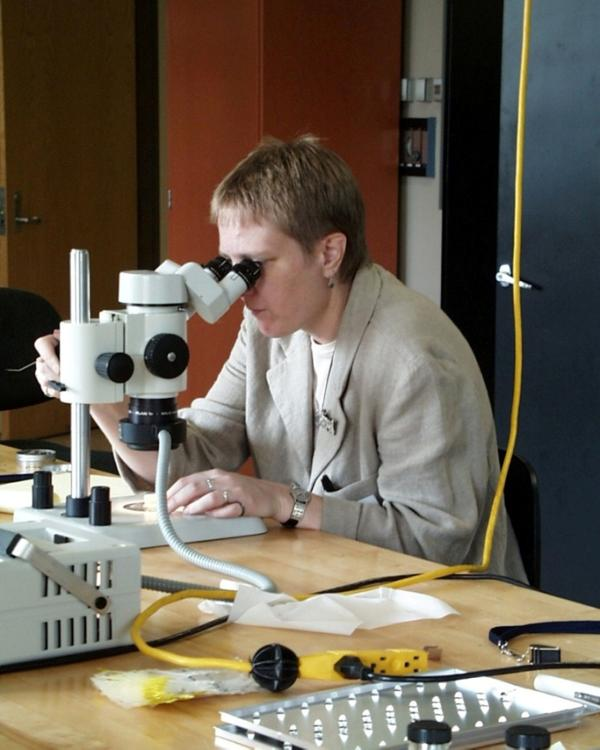person: (35, 135, 529, 586)
